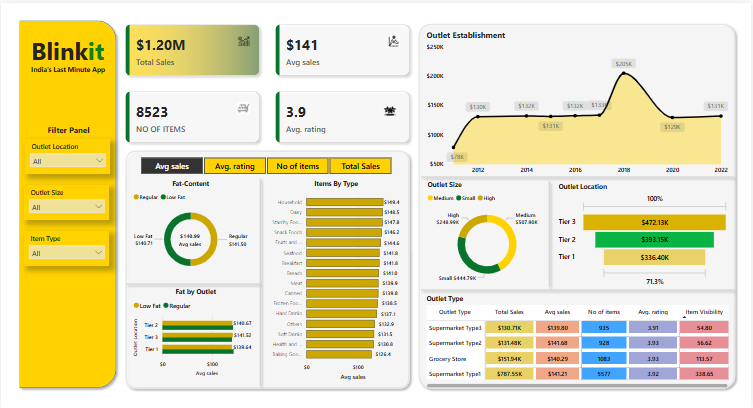

The dashboard page shown, as its layout file describes it:
{"tool":"powerbi","page":{"name":"Page 1","canvas":[1500,810],"ordinal":0},"visuals":[{"type":"shape","box":[28.3,26.7,211.7,753.3],"z":0},{"type":"textbox","box":[49.2,56.7,165.8,76.7],"z":1000},{"type":"textbox","box":[44.2,117.5,180,31.7],"z":2000},{"type":"cardVisual","fields":{"Data":["BlinkIT Grocery Data.TOTAL SALES","BlinkIT Grocery Data.AVG SALES","BlinkIT Grocery Data.NUMBER OF ITEMS","BlinkIT Grocery Data.AVERAGE RATING"]},"box":[231.8,26.4,602.7,271.8],"z":3000},{"type":"shape","box":[240,285.6,586.7,494.4],"z":4000},{"type":"slicer","fields":{"Values":["Metrics.Metrics"]},"box":[253.3,302.2,551.1,40],"z":5000},{"type":"donutChart","title":"Fat-Content","fields":{"Y":["BlinkIT Grocery Data.Avg sales"],"Category":["BlinkIT Grocery Data.Item Fat Content"]},"box":[260,352.2,238.9,196.7],"z":6000},{"type":"cardVisual","fields":{"Data":["BlinkIT Grocery Data.Avg sales"]},"box":[326.4,439.1,104.5,66.4],"z":7000},{"type":"clusteredBarChart","title":"Fat by Outlet","fields":{"Y":["BlinkIT Grocery Data.Avg sales"],"Category":["BlinkIT Grocery Data.Outlet Location Type"],"Series":["BlinkIT Grocery Data.Item Fat Content"]},"box":[260,567.8,258.9,184.4],"z":8000},{"type":"shape","box":[241.1,541.1,284.4,40],"z":9000},{"type":"shape","box":[472,342,93.3,432.7],"z":10000},{"type":"barChart","title":"Items By Type","fields":{"Y":["BlinkIT Grocery Data.Avg sales"],"Category":["BlinkIT Grocery Data.Item Type"]},"box":[526.4,351.8,288.2,408.2],"z":11000},{"type":"shape","box":[826.7,31.7,651.7,748.3],"z":12000},{"type":"lineChart","title":"Outlet Establishment","fields":{"Category":["BlinkIT Grocery Data.Outlet Establishment Year"],"Y":["BlinkIT Grocery Data.Total Sales"]},"box":[846.7,51.7,613.3,300],"z":13000},{"type":"donutChart","title":"Outlet Size","fields":{"Category":["BlinkIT Grocery Data.Outlet Size"],"Y":["BlinkIT Grocery Data.Total Sales"]},"box":[847.1,354.3,248.6,212.9],"z":14000},{"type":"shape","box":[832,327,642,40],"z":15000},{"type":"funnel","title":"Outlet Location","fields":{"Category":["BlinkIT Grocery Data.Outlet Location Type"],"Y":["BlinkIT Grocery Data.Total Sales"]},"box":[1110,357.1,350,214.3],"z":16000},{"type":"pivotTable","title":"Outlet Type","fields":{"Rows":["BlinkIT Grocery Data.Outlet Type"],"Values":["BlinkIT Grocery Data.Total Sales","BlinkIT Grocery Data.Avg sales","BlinkIT Grocery Data.No of items","BlinkIT Grocery Data.Avg. rating","Sum(BlinkIT Grocery Data.Item Visibility)"]},"box":[845.6,581.1,614.4,193.3],"z":17000},{"type":"shape","box":[832.2,553.3,642.2,40],"z":18000},{"type":"shape","box":[1049,348,93,229],"z":19000},{"type":"slicer","fields":{"Values":["BlinkIT Grocery Data.Outlet Location Type"]},"box":[48.6,272.9,171.4,70],"z":20000},{"type":"slicer","fields":{"Values":["BlinkIT Grocery Data.Outlet Size"]},"box":[45.7,364.3,171.4,70],"z":21000},{"type":"slicer","fields":{"Values":["BlinkIT Grocery Data.Item Type"]},"box":[45.7,455.7,171.4,70],"z":22000},{"type":"textbox","box":[21.4,238.6,225.7,34.3],"z":23000}]}

Visuals, with their boxes in screenshot pixels (x1, y1, x2, y2), scaled from the page's 1500x810 canvas onto the 753x408 screenshot:
shape: l=14, t=13, r=120, b=393
textbox: l=25, t=29, r=108, b=67
textbox: l=22, t=59, r=113, b=75
cardVisual - BlinkIT Grocery Data.TOTAL SALES x BlinkIT Grocery Data.AVG SALES: l=116, t=13, r=419, b=150
shape: l=120, t=144, r=415, b=393
slicer - Metrics.Metrics: l=127, t=152, r=404, b=172
"Fat-Content" donutChart: l=131, t=177, r=250, b=276
cardVisual - BlinkIT Grocery Data.Avg sales: l=164, t=221, r=216, b=255
"Fat by Outlet" clusteredBarChart: l=131, t=286, r=260, b=379
shape: l=121, t=273, r=264, b=293
shape: l=237, t=172, r=284, b=390
"Items By Type" barChart: l=264, t=177, r=409, b=383
shape: l=415, t=16, r=742, b=393
"Outlet Establishment" lineChart: l=425, t=26, r=733, b=177
"Outlet Size" donutChart: l=425, t=178, r=550, b=286
shape: l=418, t=165, r=740, b=185
"Outlet Location" funnel: l=557, t=180, r=733, b=288
"Outlet Type" pivotTable: l=424, t=293, r=733, b=390
shape: l=418, t=279, r=740, b=299
shape: l=527, t=175, r=573, b=291
slicer - BlinkIT Grocery Data.Outlet Location Type: l=24, t=137, r=110, b=173
slicer - BlinkIT Grocery Data.Outlet Size: l=23, t=183, r=109, b=219
slicer - BlinkIT Grocery Data.Item Type: l=23, t=230, r=109, b=265
textbox: l=11, t=120, r=124, b=137
